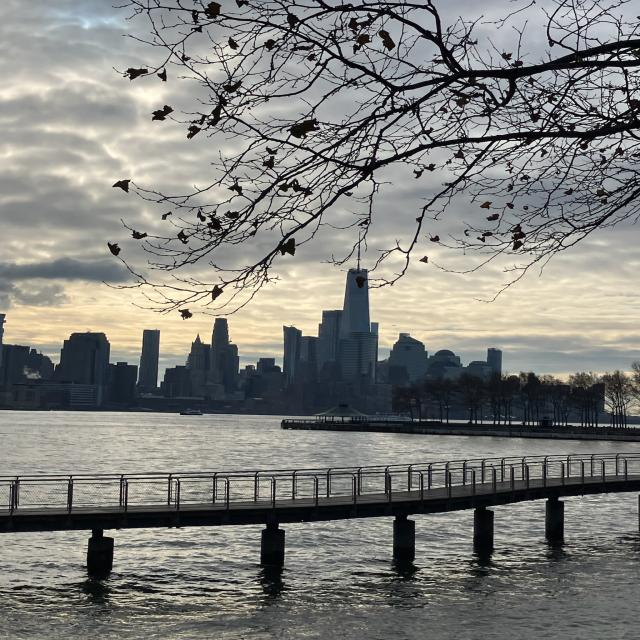WTC: (341, 244, 372, 334)
